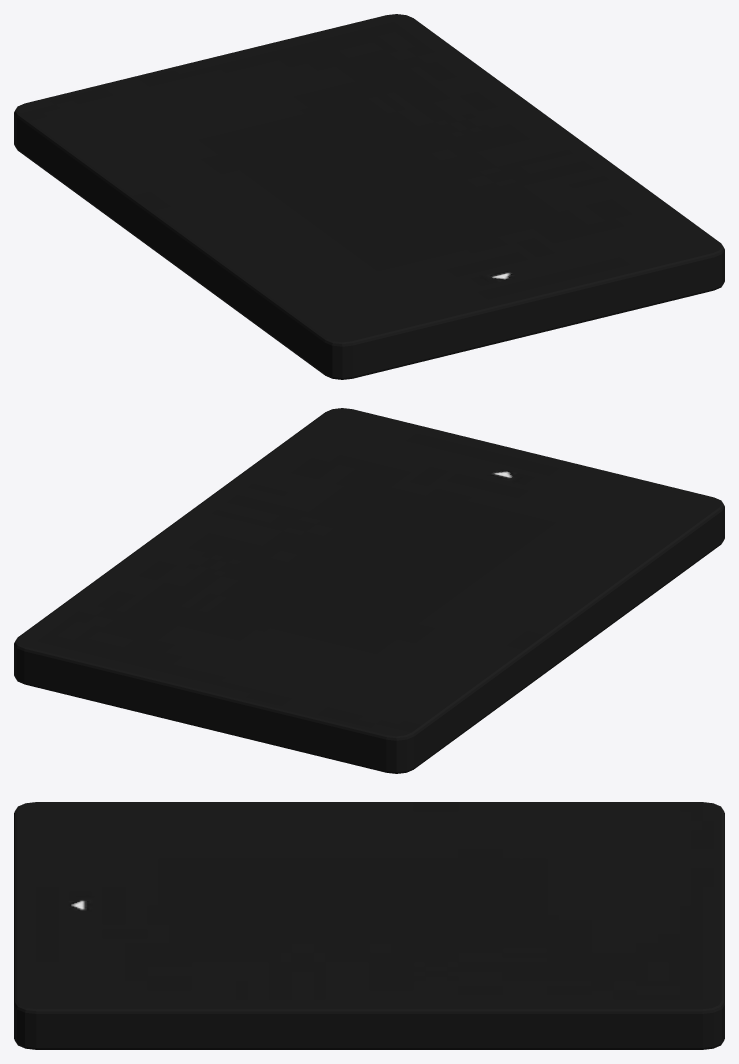
File: ssd-samsung-870-evo-1tb_lod2.glb
3 views of the same model, one above another, from view 1: azimuth 30°, elevation 25°; view 2: azimuth 150°, elevation 25°; view 3: azimuth 270°, elevation 25° (orthographic). The views are drawn at different scales.
Visible parts, largest first — view 1: body; view 2: body; view 3: body.
Boxes of the visible parts, left/top/right/bottom form: body: left=14, top=14, right=724, bottom=379; body: left=14, top=408, right=724, bottom=773; body: left=14, top=802, right=724, bottom=1049.
Bounding box in the file's own units: 0.0699 × 0.0068 × 0.1.
3 materials, 1 textured.
